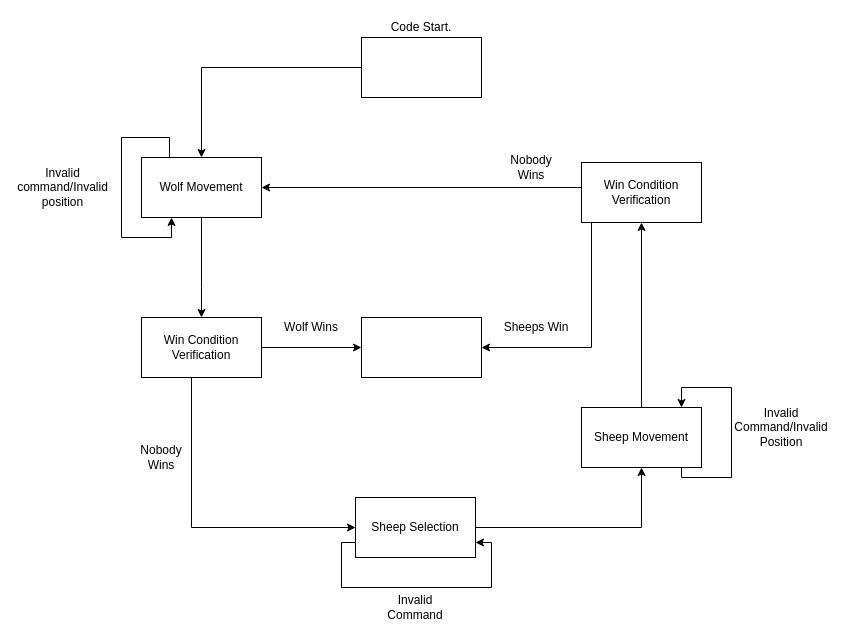
The diagram is 845 pixels wide and 639 high, and some of its shapes have lost their labels. Here are the shapes that lost their labels. From the top down, the centre of each, then its label:
At pixel 421 67: "Wolf Generates random position".
At pixel 421 347: "Game Over".
